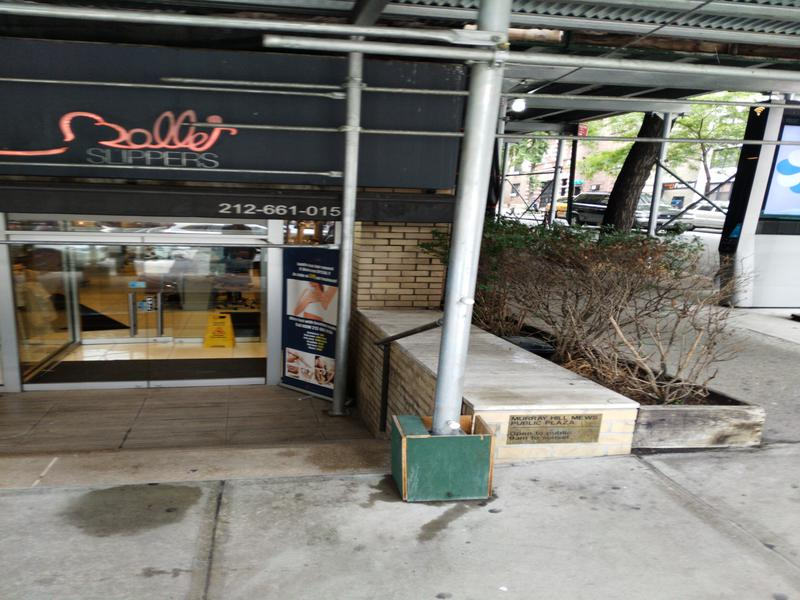double_door: (7, 225, 276, 388)
